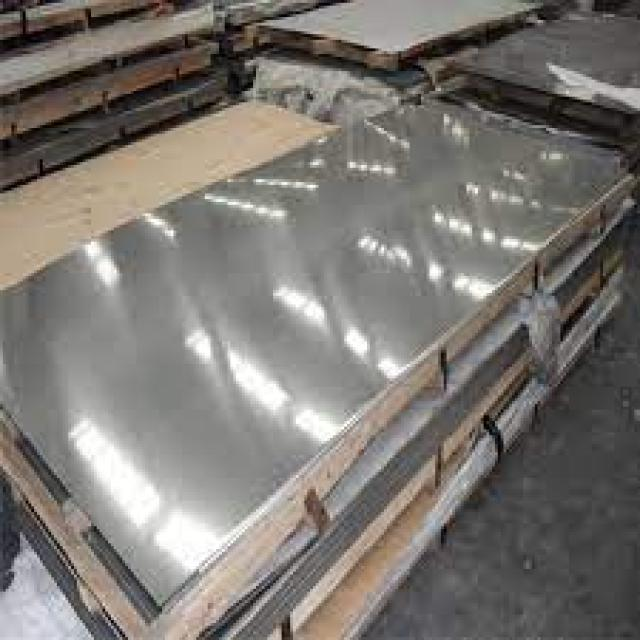Dry Waste: (28, 52, 570, 551)
